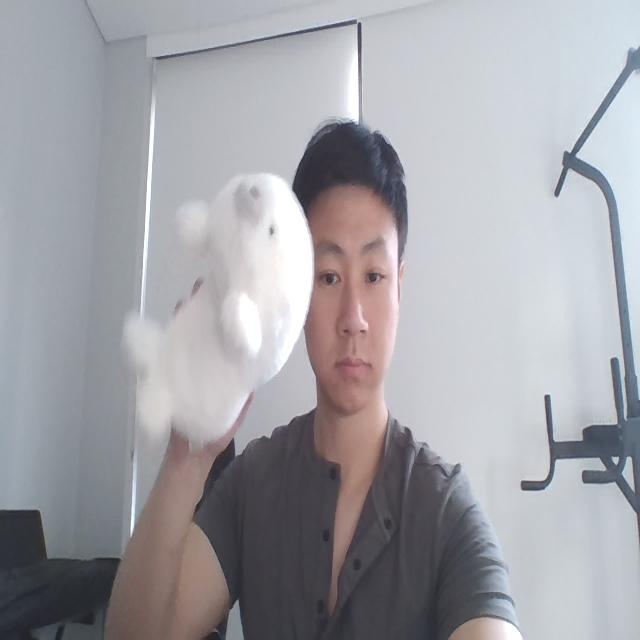seal_bb: (123, 167, 316, 450)
